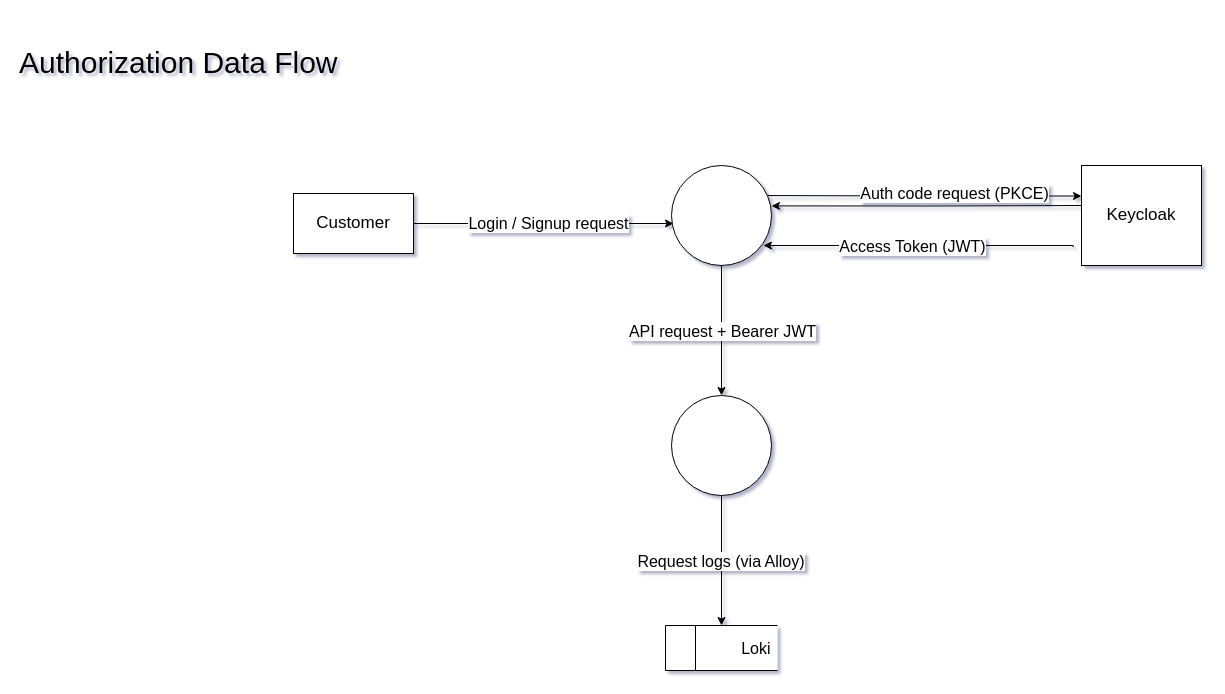
This 1225x694 diagram has some shape labels left out. Each missing label, with the centre of its shape:
Backend API: (721,445)
Frontend: (721,215)
